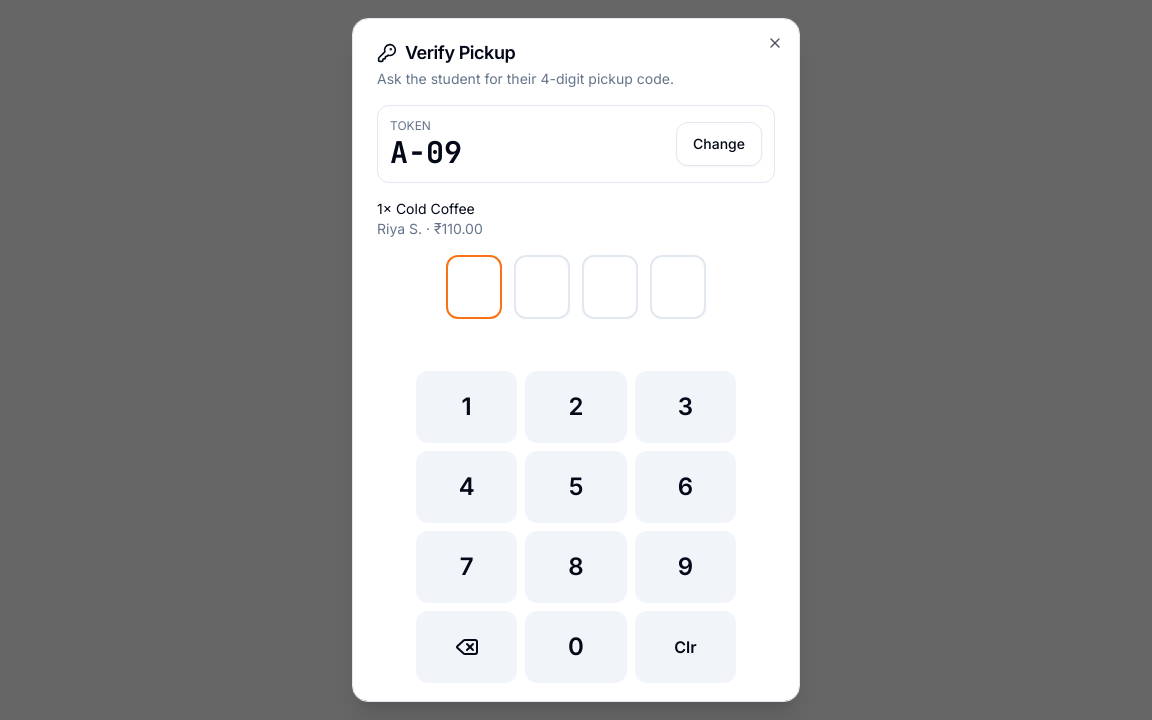
it: PickupVerifyModal › auto-submits on the 4th digit and shows success
This screenshot has width=1152, height=720.
Click the button "4".
click(467, 487)  # box [416,451,517,523]
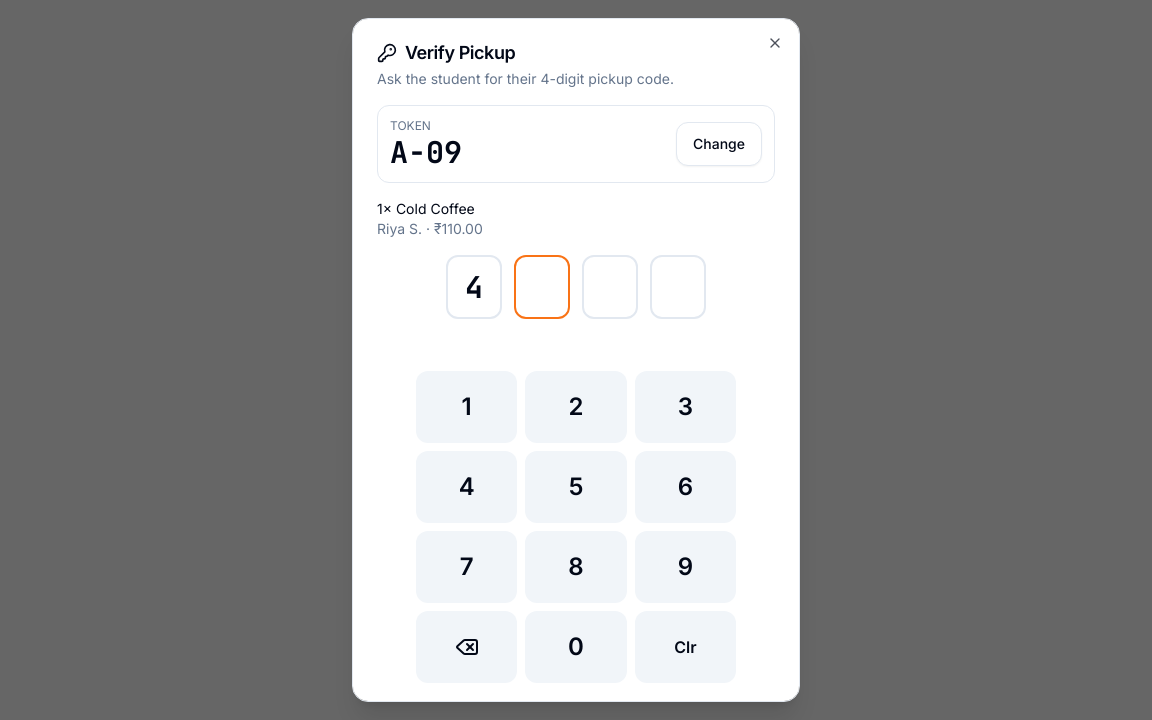
Click the button "7".
click(467, 567)  # box [416,531,517,603]
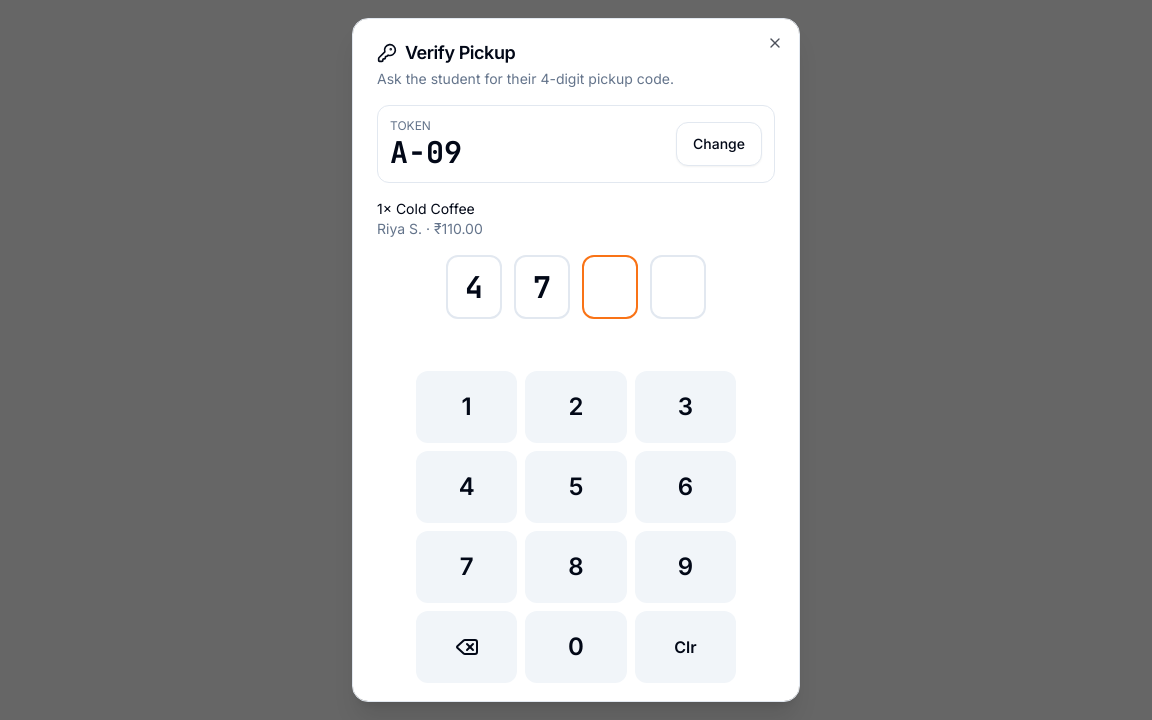
Click the button "2".
click(576, 407)  # box [525,371,627,443]
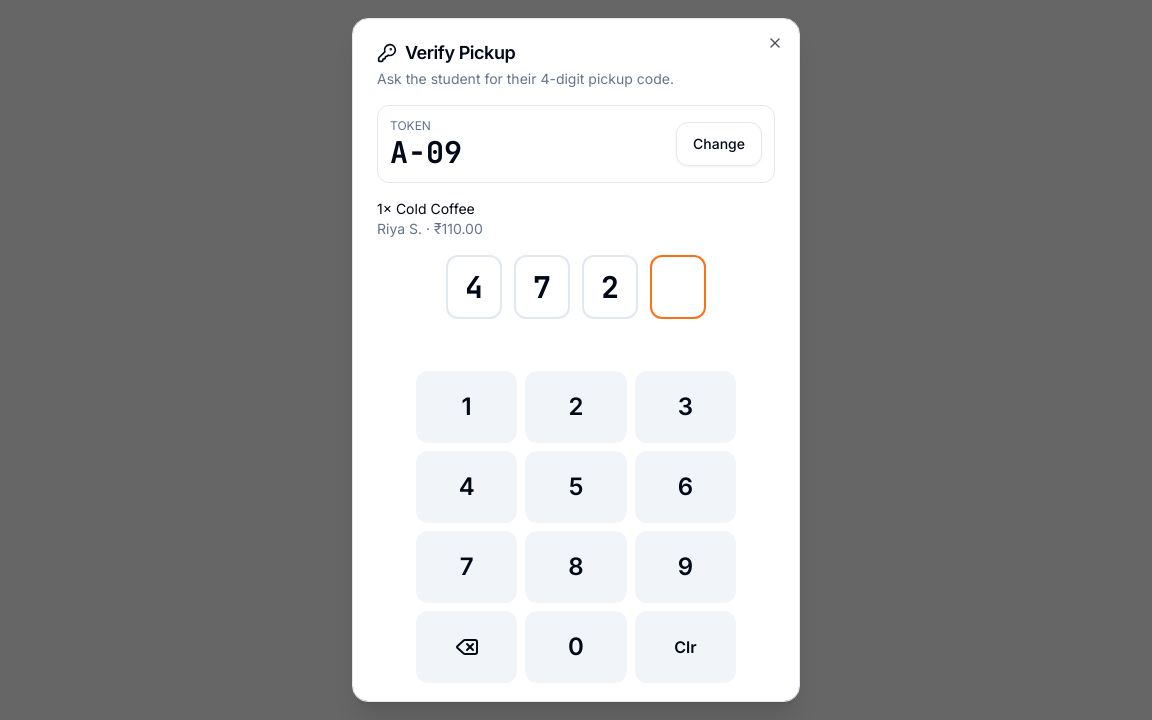
Click the button "1".
click(467, 407)  # box [416,371,517,443]
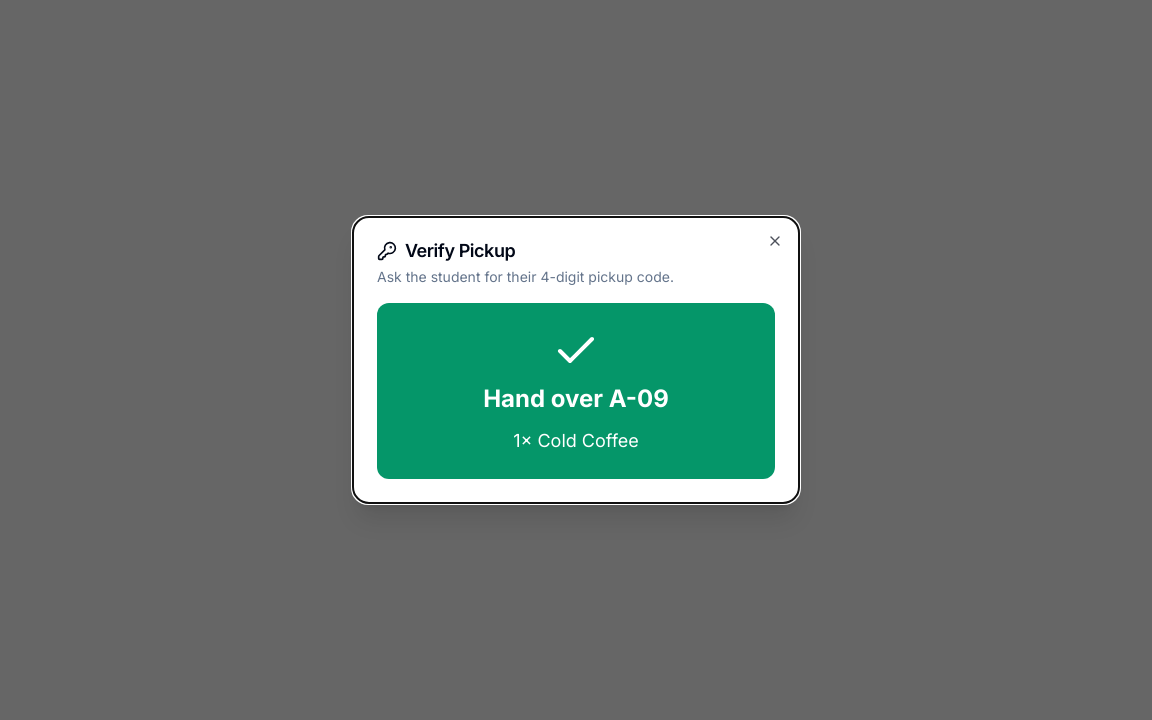
Expected: the text "Hand over A-09" is shown, [483,384,669,413]
